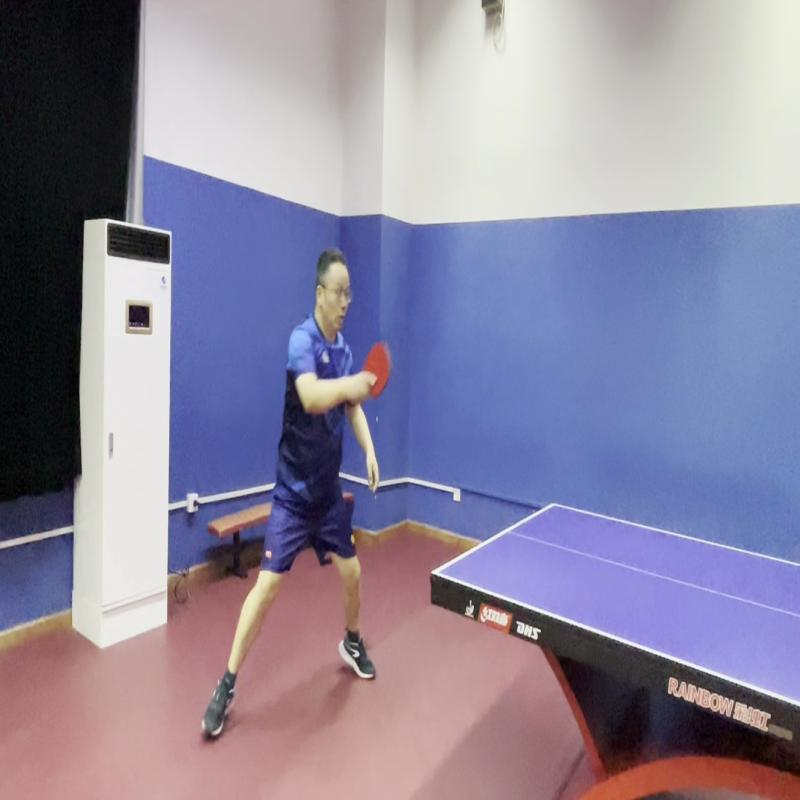bats: (356, 335, 394, 404)
